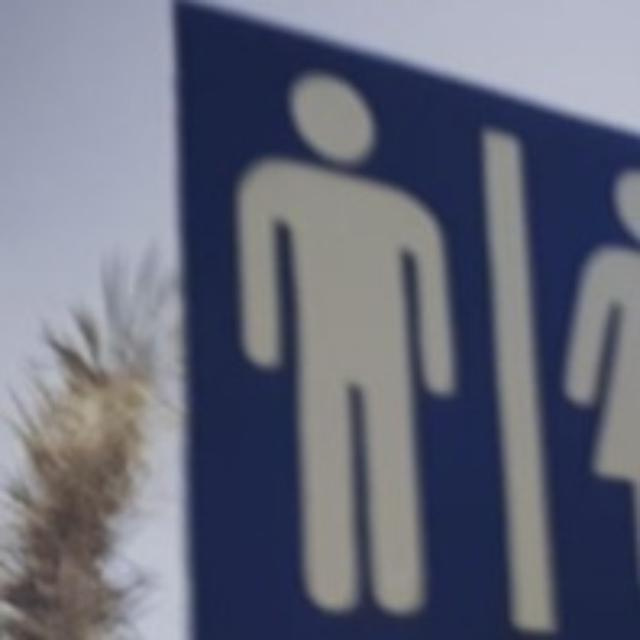mens_restroom: (239, 71, 453, 611)
